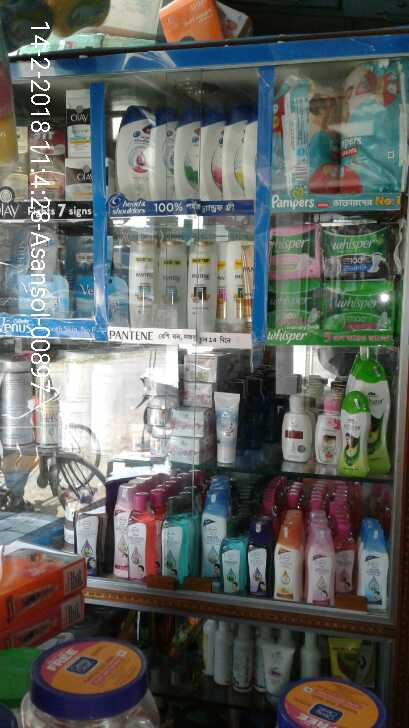venus: (12, 274, 75, 321), (75, 273, 126, 321), (12, 231, 62, 270)
